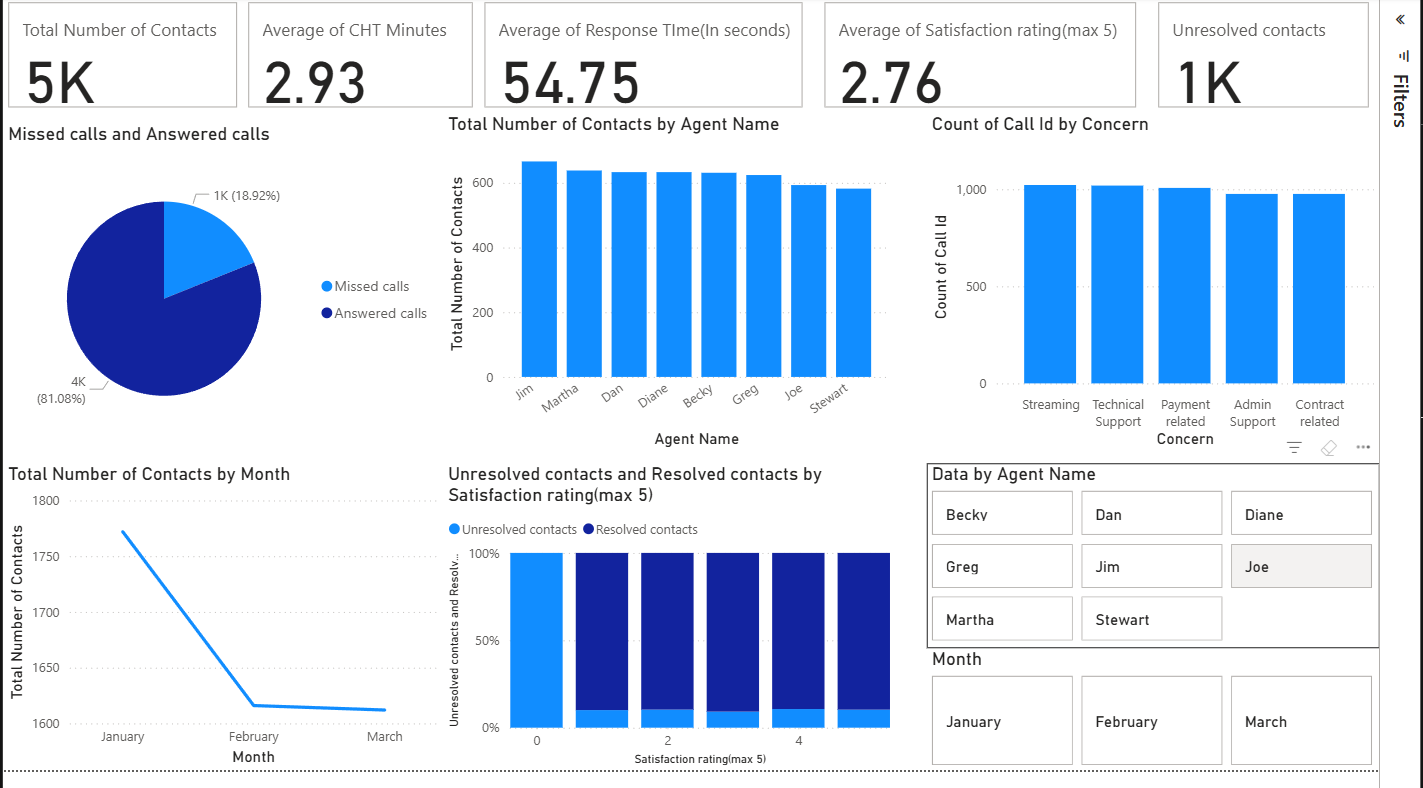

The page's visual inventory and layout, read from the dashboard file:
{"tool":"powerbi","page":{"name":"Trends","canvas":[1280,720],"ordinal":0},"visuals":[{"type":"cardVisual","fields":{"Data":["Sheet1.Total Number of Contacts"]},"box":[0,0,223.3,108.3],"z":0},{"type":"pieChart","fields":{"Y":["Sheet1.Missed calls","Sheet1.Answered calls"]},"box":[0,118,408.9,306],"z":1000},{"type":"cardVisual","fields":{"Data":["Sheet1.CHT"]},"box":[223.3,0,219.8,108.1],"z":2000},{"type":"cardVisual","fields":{"Data":["Sheet1.Response TIme(In seconds)"]},"box":[443,0,307,108.1],"z":3000},{"type":"columnChart","fields":{"Category":["Sheet1.Agent Name"],"Y":["Sheet1.Total Number of Contacts"]},"box":[409.3,108.1,420.9,316.3],"z":4000},{"type":"columnChart","fields":{"Y":["Sheet1.Call Id"],"Category":["Sheet1.Concern"]},"box":[859.3,108.1,420.9,316.3],"z":5000},{"type":"cardVisual","fields":{"Data":["Sheet1.Satisfaction rating(max 5)"]},"box":[759.3,0,300,108.1],"z":6000},{"type":"cardVisual","fields":{"Data":["Sheet1.Unresolved contacts"]},"box":[1069.8,0,207,108.1],"z":7000},{"type":"lineChart","fields":{"Category":["Sheet1.Contact Date.Variation.Date Hierarchy.Month"],"Y":["Sheet1.Total Number of Contacts"]},"box":[0,434,409,286],"z":8000},{"type":"hundredPercentStackedColumnChart","fields":{"Category":["Sheet1.Satisfaction rating(max 5)"],"Y":["Sheet1.Unresolved contacts","Sheet1.Resolved contacts"]},"box":[409,434,421,286],"z":9000},{"type":"advancedSlicerVisual","fields":{"Values":["Sheet1.Contact Date.Variation.Date Hierarchy.Month"]},"box":[859.3,605.8,420.9,114],"z":9001},{"type":"advancedSlicerVisual","fields":{"Values":["Sheet1.Agent Name"]},"box":[859.3,433.7,420.9,172.1],"z":9002}]}

Visuals, with their boxes on the page's 1280x720 design canvas (x1, y1, x2, y2). These are canvas units, not pixel positions in the 1423x788 screenshot, which may show the page scaled, cropped or inside an application window:
cardVisual - Sheet1.Total Number of Contacts: x1=0 y1=0 x2=223 y2=108
pieChart - Sheet1.Missed calls x Sheet1.Answered calls: x1=0 y1=118 x2=409 y2=424
cardVisual - Sheet1.CHT: x1=223 y1=0 x2=443 y2=108
cardVisual - Sheet1.Response TIme(In seconds): x1=443 y1=0 x2=750 y2=108
columnChart - Sheet1.Agent Name x Sheet1.Total Number of Contacts: x1=409 y1=108 x2=830 y2=424
columnChart - Sheet1.Call Id x Sheet1.Concern: x1=859 y1=108 x2=1280 y2=424
cardVisual - Sheet1.Satisfaction rating(max 5): x1=759 y1=0 x2=1059 y2=108
cardVisual - Sheet1.Unresolved contacts: x1=1070 y1=0 x2=1277 y2=108
lineChart - Sheet1.Contact Date.Variation.Date Hierarchy.Month x Sheet1.Total Number of Contacts: x1=0 y1=434 x2=409 y2=720
hundredPercentStackedColumnChart - Sheet1.Satisfaction rating(max 5) x Sheet1.Unresolved contacts: x1=409 y1=434 x2=830 y2=720
advancedSlicerVisual - Sheet1.Contact Date.Variation.Date Hierarchy.Month: x1=859 y1=606 x2=1280 y2=720
advancedSlicerVisual - Sheet1.Agent Name: x1=859 y1=434 x2=1280 y2=606
